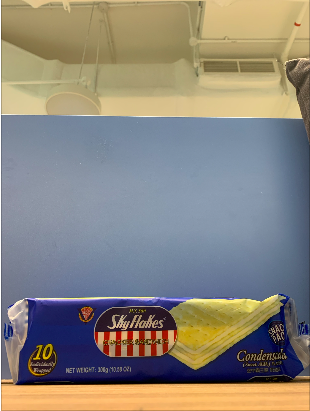Crackers_300-399g: (19, 302, 291, 376)
